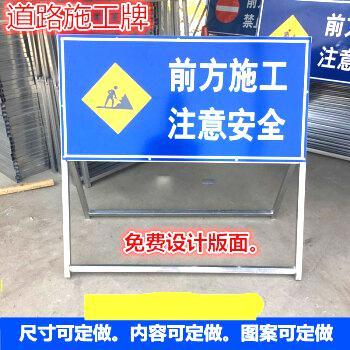sign: (57, 33, 308, 166)
